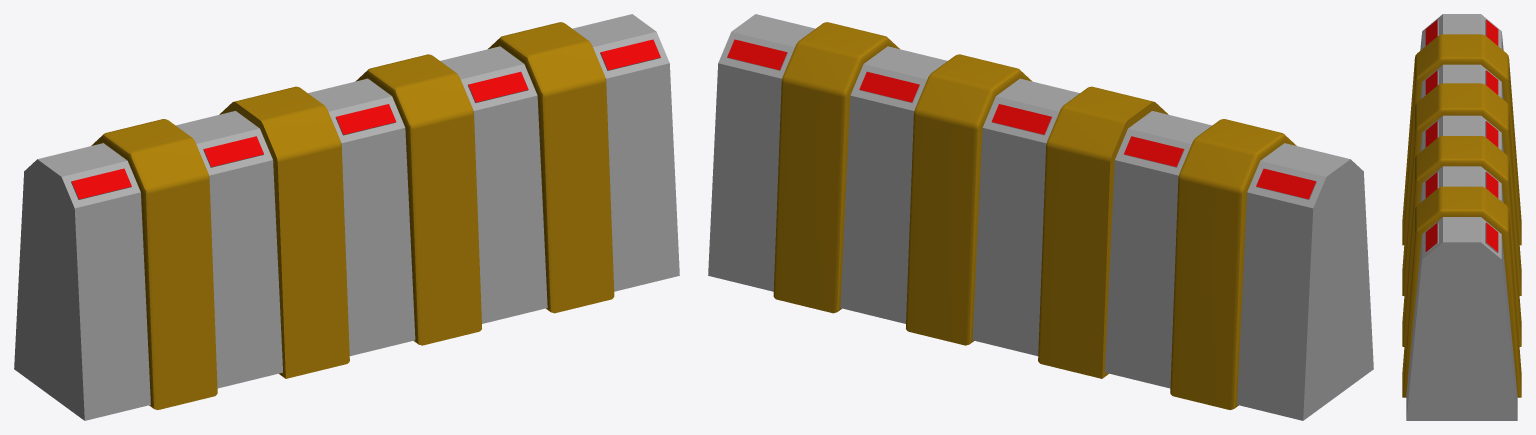
Rendered from Barrier.fbx.
3 views of the same model, side by side, from view 1: azimuth 30°, elevation 25°; view 2: azimuth 150°, elevation 25°; view 3: azimuth 270°, elevation 25° (orthographic). The views are drawn at different scales.
Visible parts, largest first — view 1: Barrier; view 2: Barrier; view 3: Barrier.
Boxes of the visible parts, left/top/right/bottom form: Barrier: left=14, top=14, right=679, bottom=420; Barrier: left=708, top=14, right=1373, bottom=420; Barrier: left=1402, top=14, right=1521, bottom=420.
Size of the model in its own units: 9.03 by 3.48 by 2.
